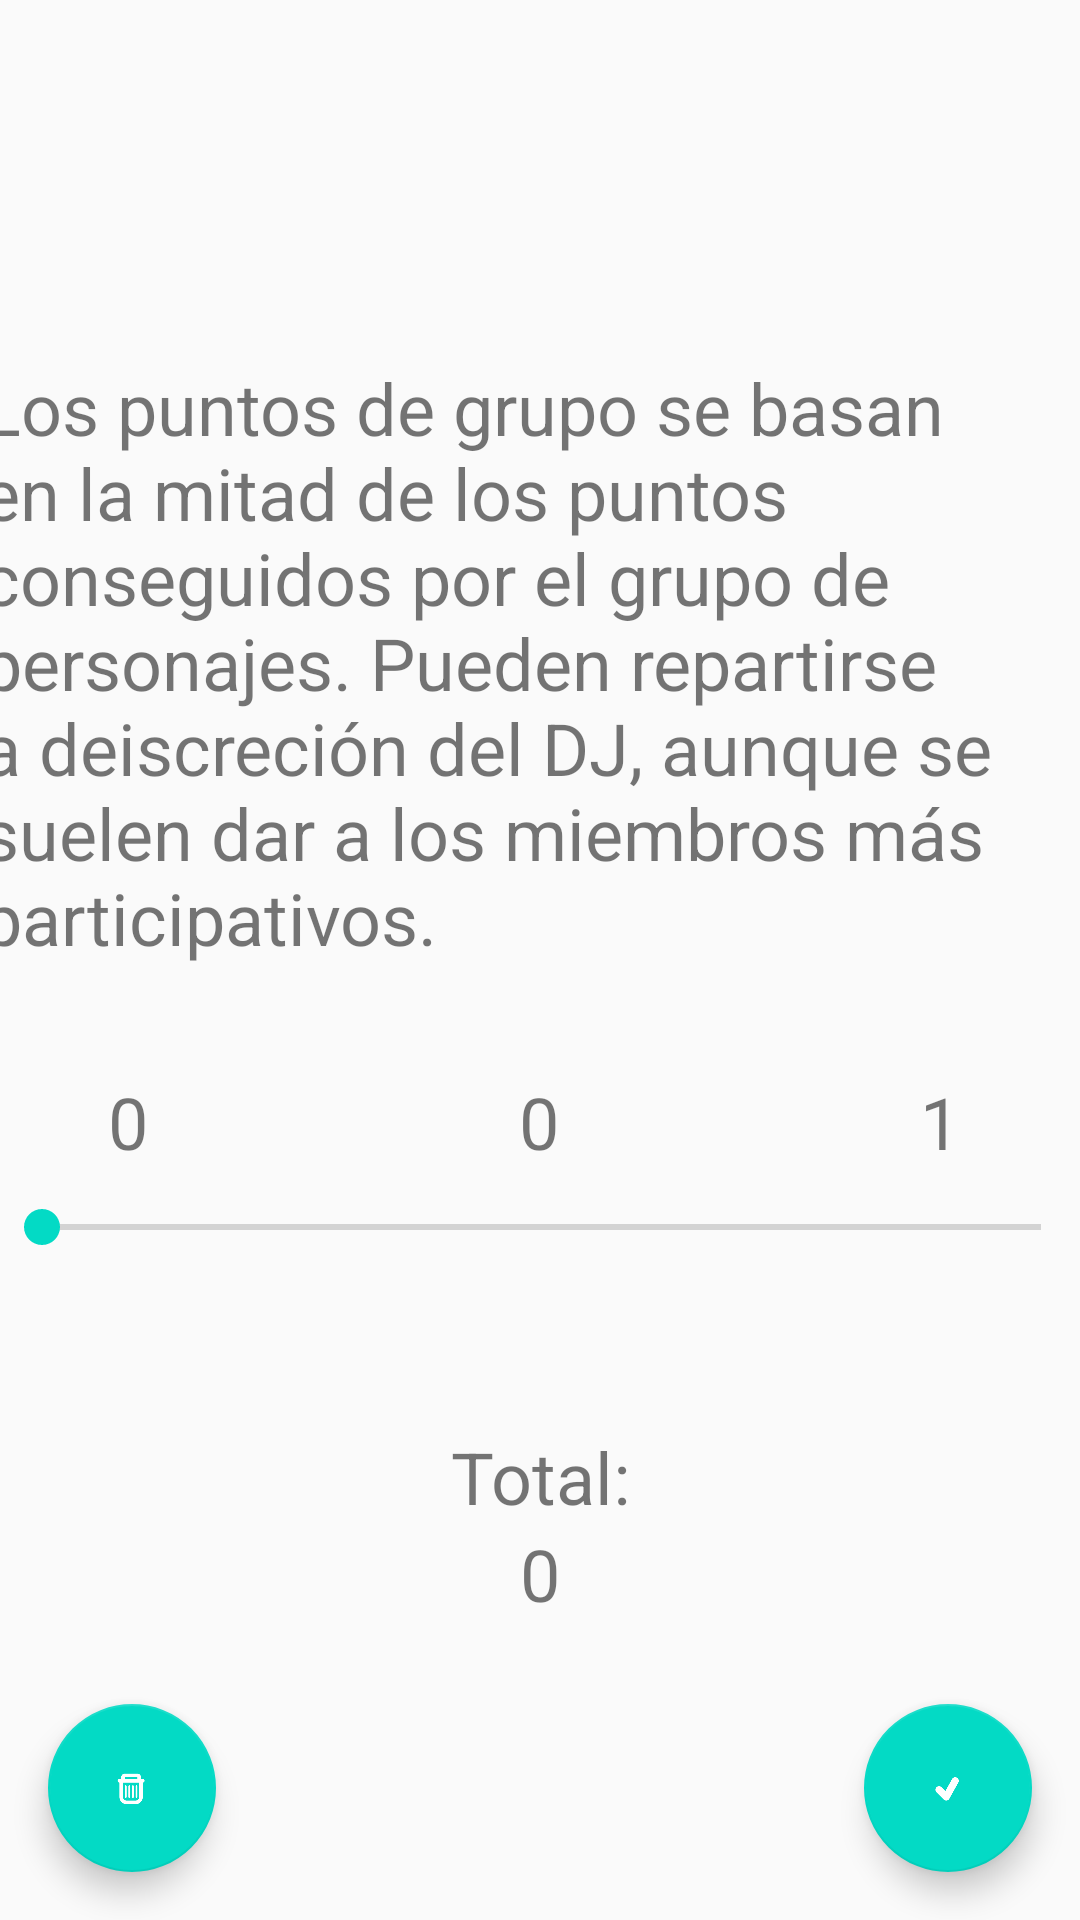

Icons on this 1080 x 1920 Android screen, each with the point to tap as point (x, y):
trash: point (132, 1788)
